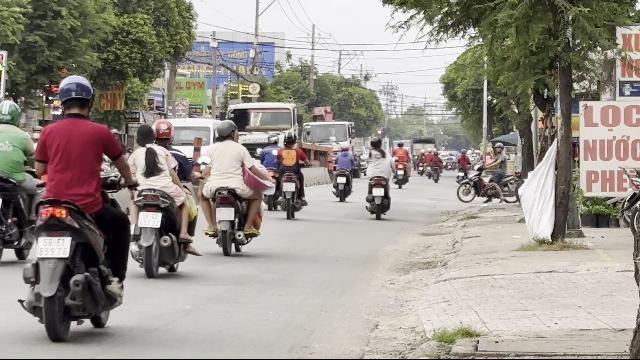helmet: (54, 74, 96, 118), (150, 119, 174, 145), (1, 100, 22, 126), (214, 120, 236, 140)
licenseplate: (36, 238, 72, 258), (138, 212, 162, 228), (216, 208, 234, 220)
motorcyclist: (12, 73, 132, 339), (126, 116, 198, 276), (198, 118, 266, 255), (1, 99, 40, 263)
nohelmet: (134, 123, 154, 145)
